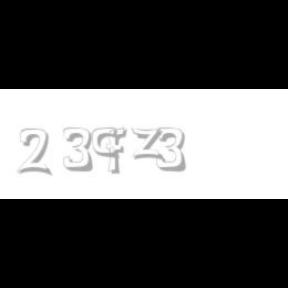2: (16, 128, 50, 176)
3: (156, 128, 188, 172), (64, 128, 94, 172)
c: (92, 128, 120, 160)
f: (107, 128, 131, 174)
z: (130, 128, 166, 160)
